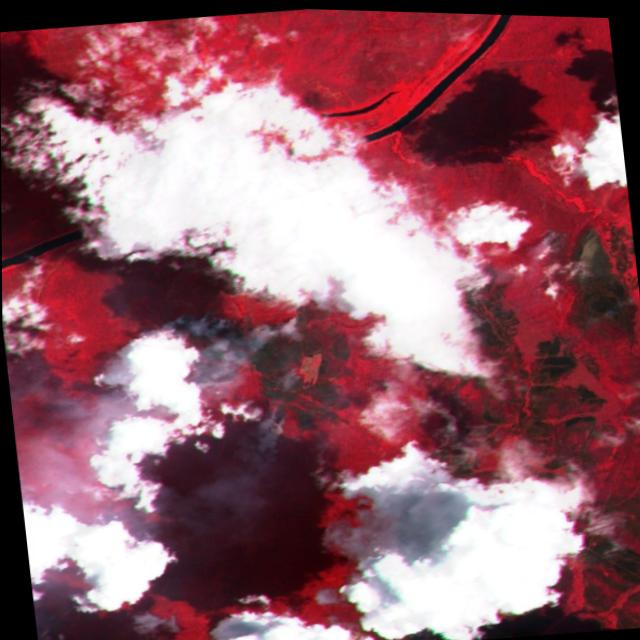fire: (120, 284, 339, 454), (532, 215, 582, 299)
